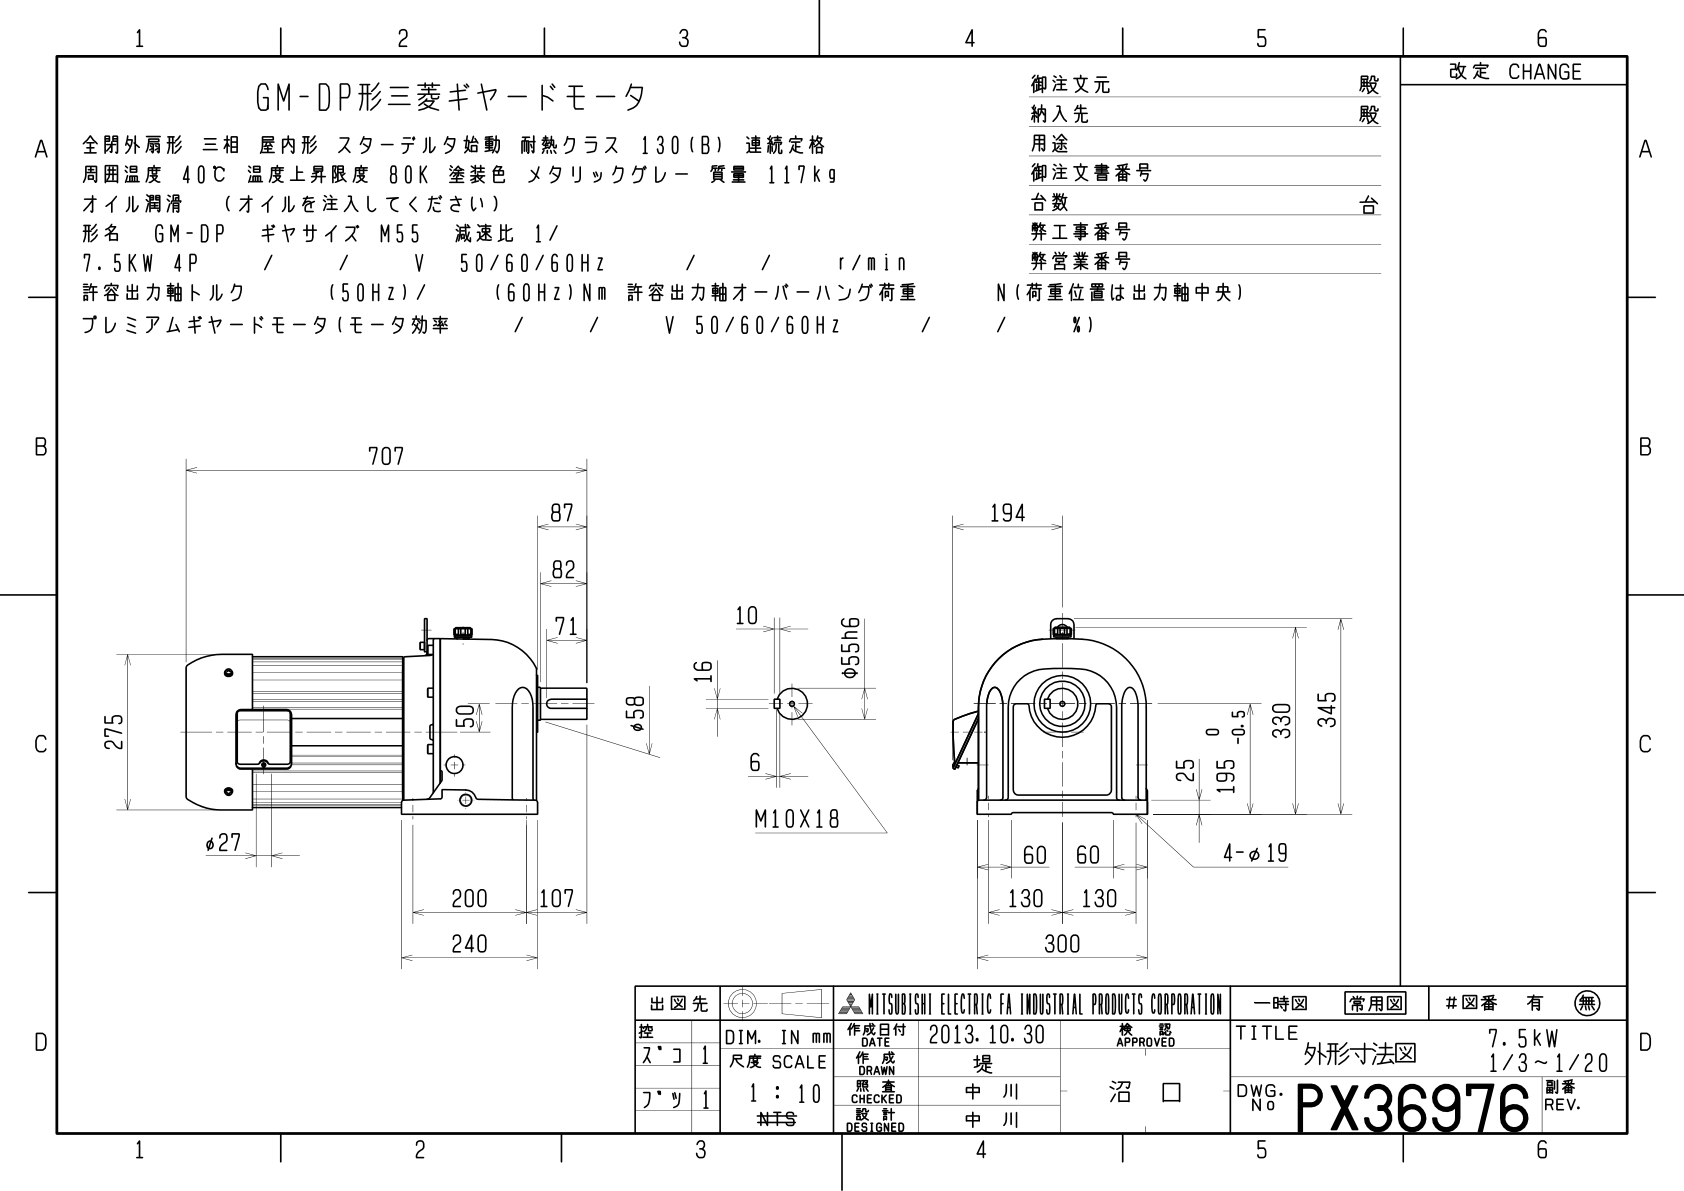GM_D_屋内＿三相_脚: (1, 14, 1672, 1170)
